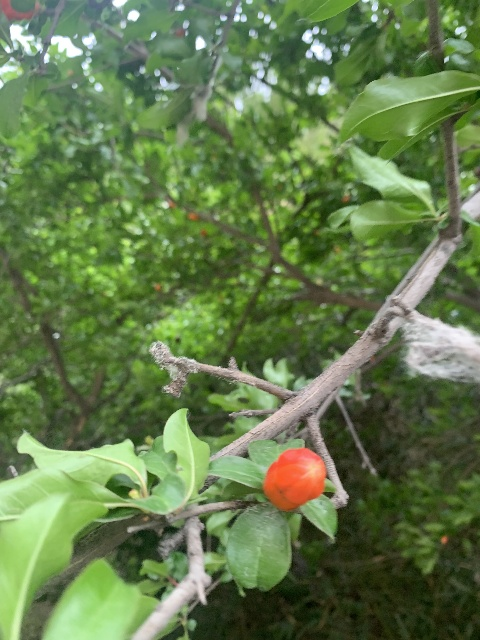bud: (263, 447, 326, 512)
